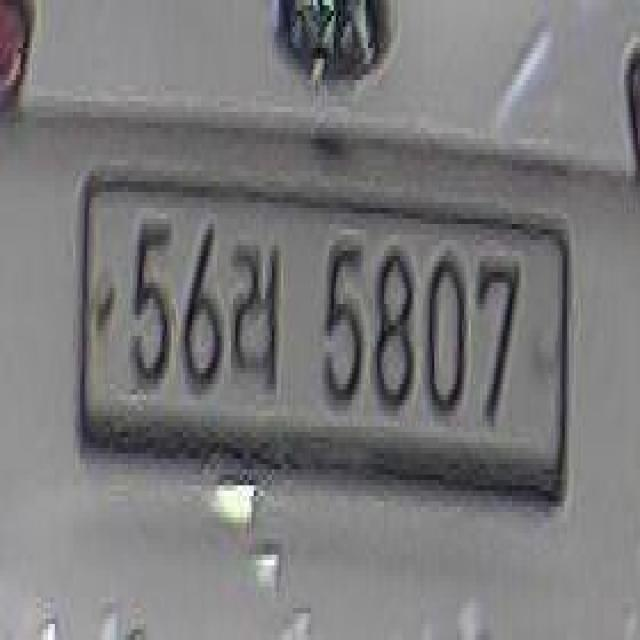illegal_plate: (76, 158, 572, 519)
